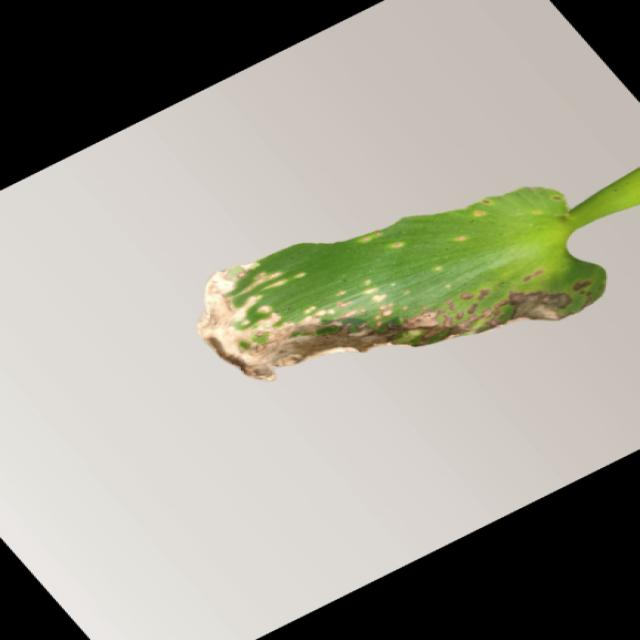daun berpenyakit bercak: (199, 171, 640, 380)
